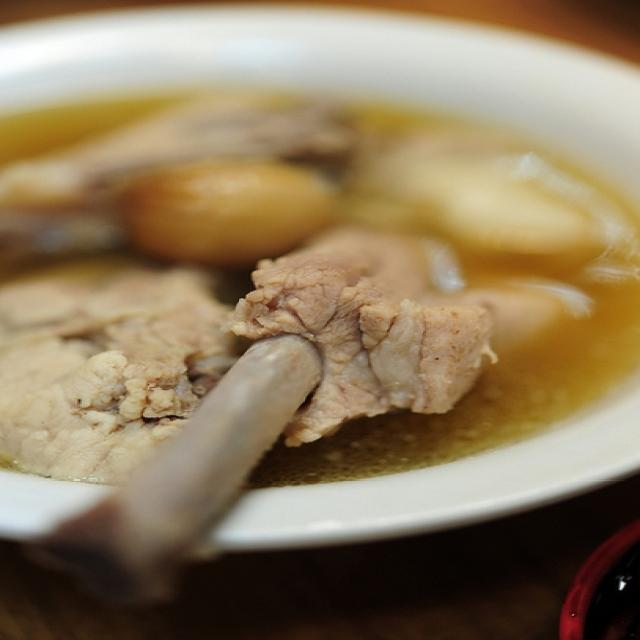汤锅炖物: (9, 34, 630, 588)
